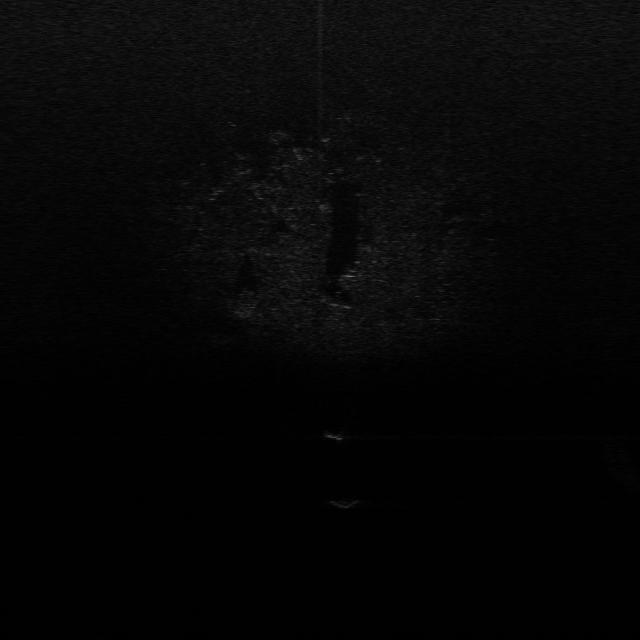cube: (328, 488, 363, 512)
square cage: (320, 415, 358, 446)
